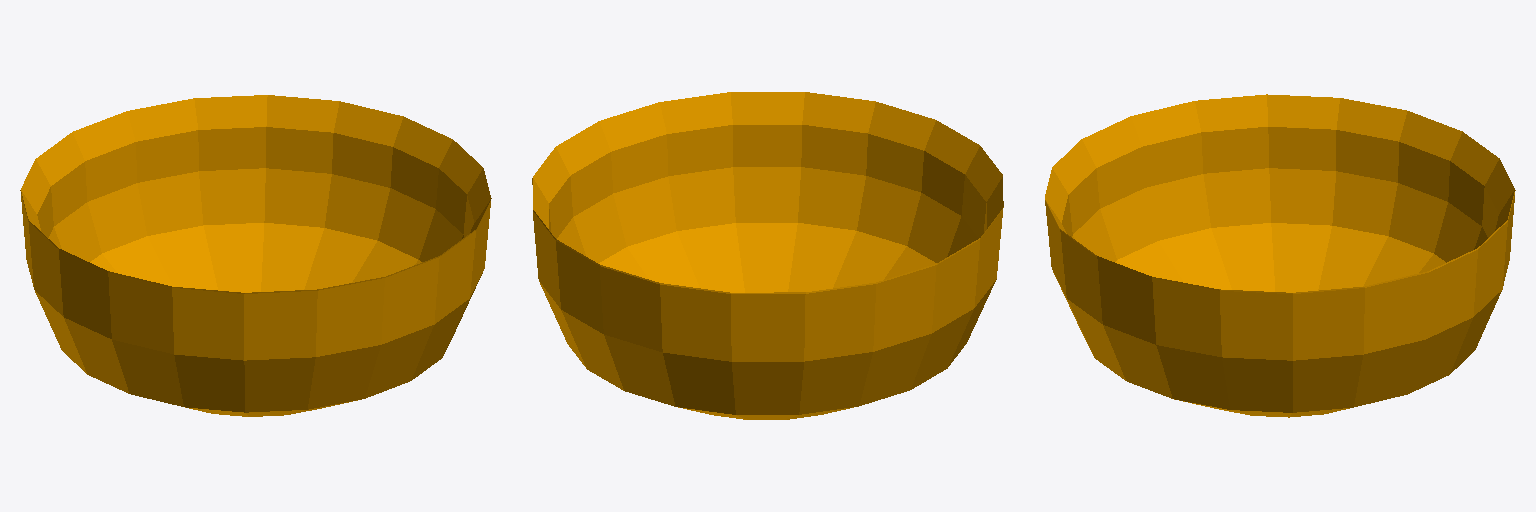
robot.urdf — bowl:
<robot name="bowl">
    <link name="bowl">
        <collision>
            <geometry>
                <mesh filename="bowl.stl" />
            </geometry>
        </collision>
        <visual>
            <geometry>
                <mesh filename="bowl.stl" />
            </geometry>
        </visual>
    </link>
</robot>

--- Facts derived from the render (not from the file) ---
Views: 3 orthographic renders of the robot side by side, from view 1: azimuth 30°, elevation 25°; view 2: azimuth 150°, elevation 25°; view 3: azimuth 270°, elevation 25°.
Robot: bowl — 1 links, 0 joints (none); root link bowl; default pose: all joints at 0.
Links seen in each view (by area): view 1: bowl; view 2: bowl; view 3: bowl.
Link boxes in pixels (x1,y1,x2,y2): bowl: (20, 95, 491, 416); bowl: (532, 92, 1003, 419); bowl: (1045, 94, 1515, 417).
Size in the robot's own frame: 0.1644 by 0.165 by 0.0702 metres.
1 mesh visuals loaded from 1 distinct referenced files (1 binary STL).